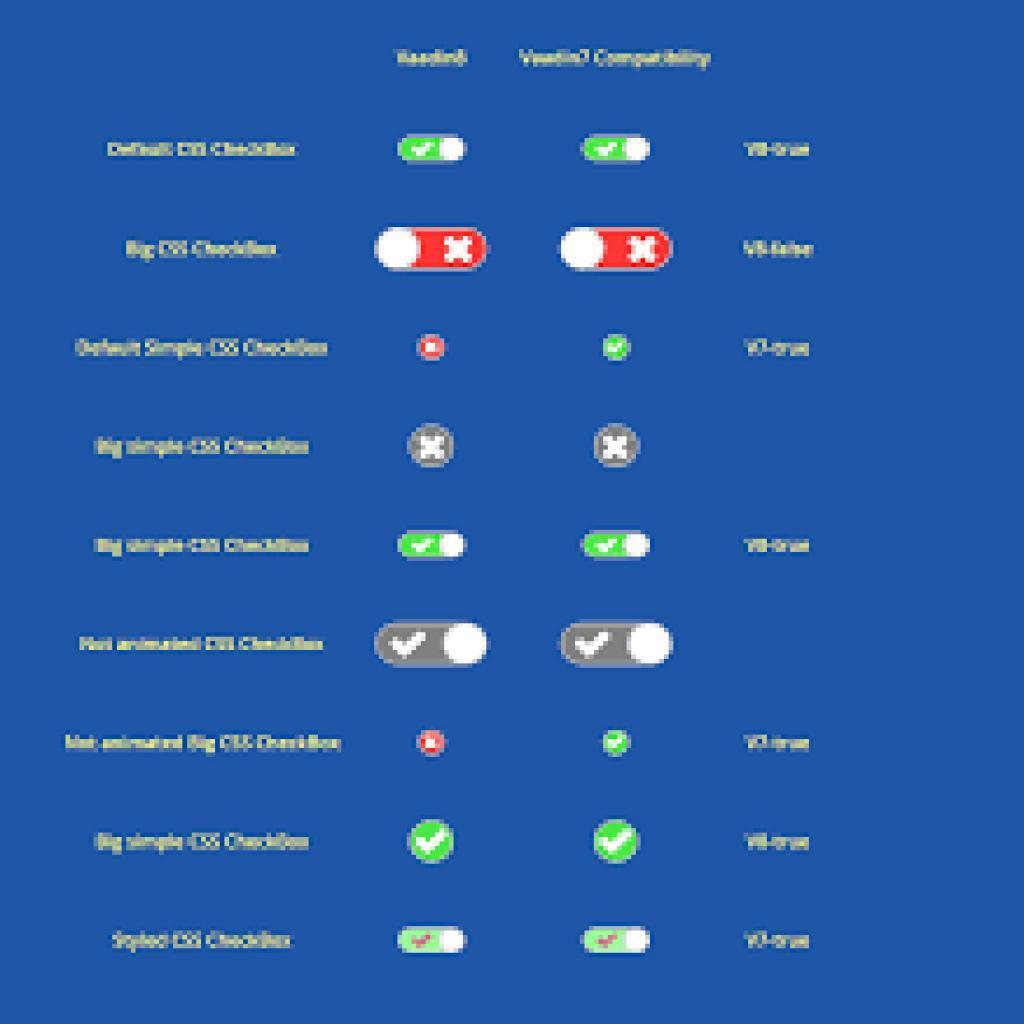radio: (407, 424, 457, 473), (593, 817, 641, 868), (411, 818, 458, 866), (595, 423, 642, 470), (601, 333, 636, 364), (417, 333, 448, 365), (418, 730, 450, 761), (602, 730, 633, 759)
switch: (555, 226, 677, 274), (374, 226, 493, 275), (373, 622, 490, 669), (561, 622, 676, 668), (578, 132, 654, 168), (580, 530, 653, 562), (396, 531, 470, 561), (399, 135, 468, 164), (399, 928, 468, 957), (582, 929, 655, 956)
